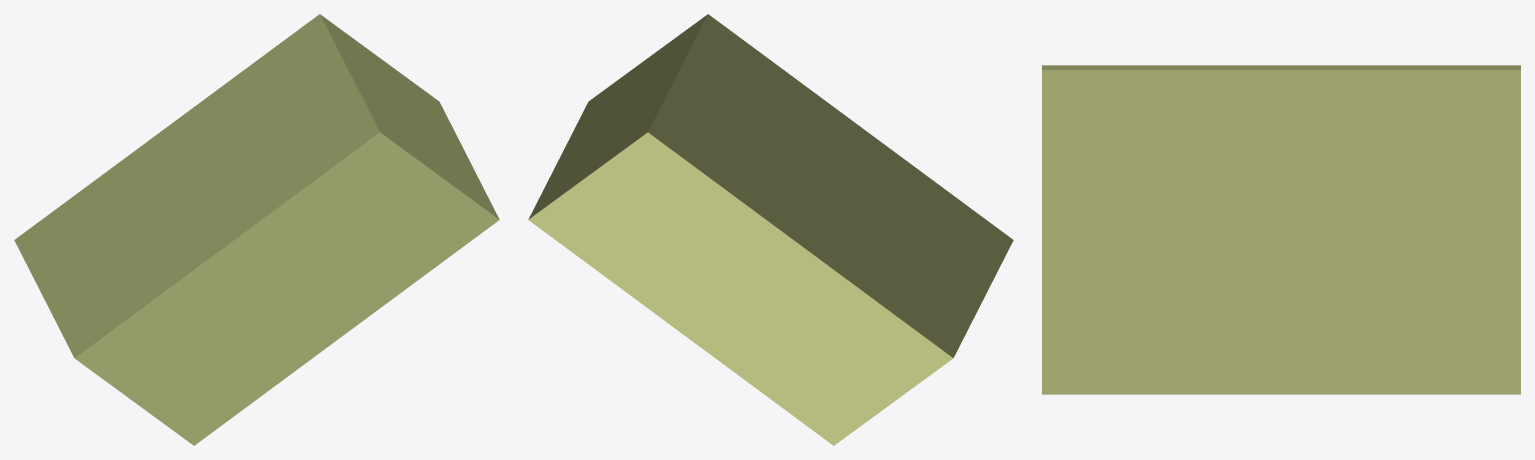
3 renders of one model, left to right at view 1: azimuth 30°, elevation 25°; view 2: azimuth 150°, elevation 25°; view 3: azimuth 270°, elevation 25°, orthographic. The views are drawn at different scales.
Parts seen in each view (by area): view 1: 0_1_0_2_0_2_0_2_3_1; view 2: 0_1_0_2_0_2_0_2_3_1; view 3: 0_1_0_2_0_2_0_2_3_1.
Part boxes in pixels (bbox=[...]): 0_1_0_2_0_2_0_2_3_1: bbox=[14, 14, 499, 445]; 0_1_0_2_0_2_0_2_3_1: bbox=[528, 14, 1013, 445]; 0_1_0_2_0_2_0_2_3_1: bbox=[1042, 65, 1520, 394].
Size of the model in its own units: 15.88 by 11.8 by 9.
